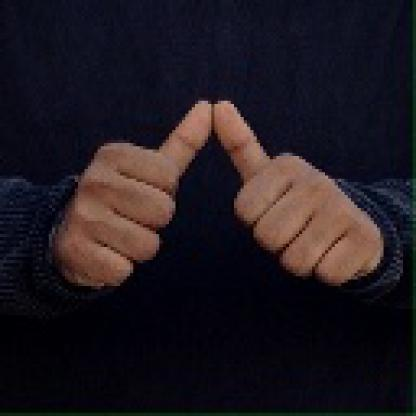A: (53, 97, 378, 290)
